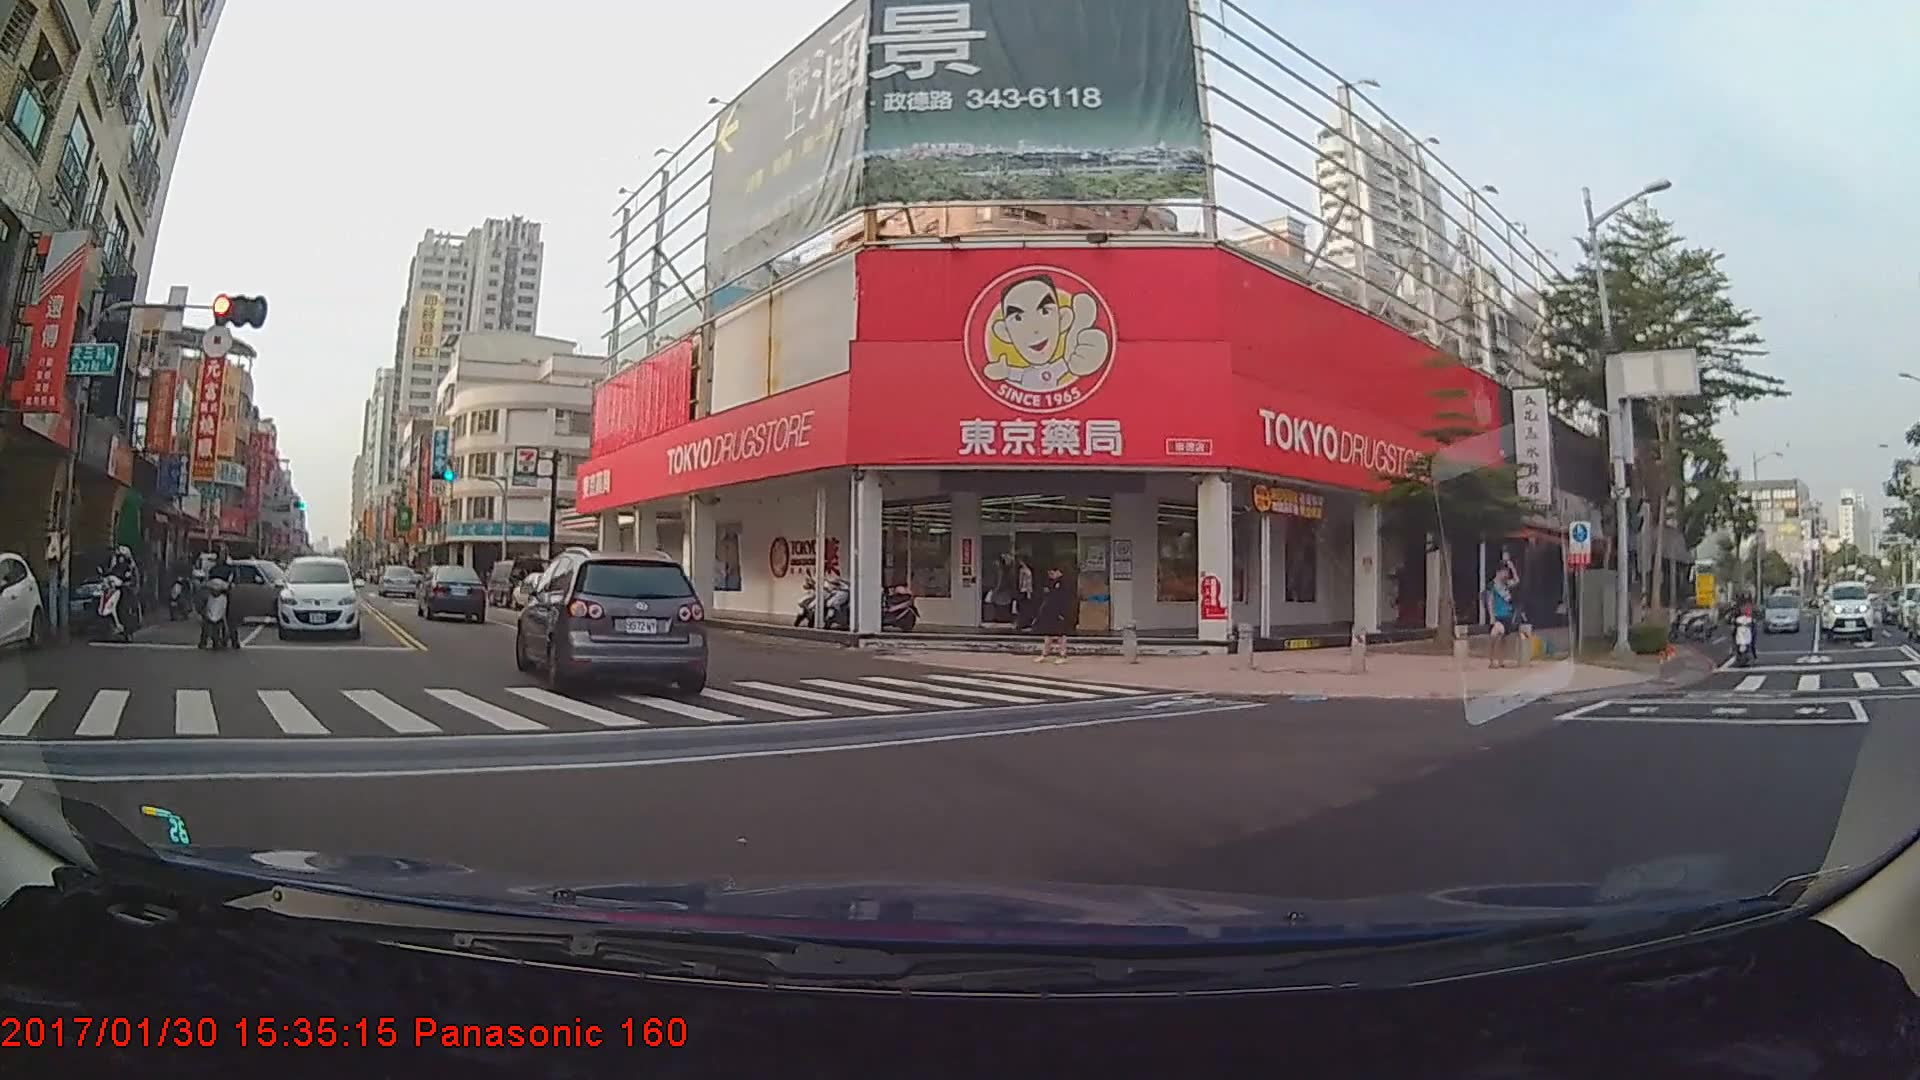pedestrian: (1033, 563, 1083, 665), (1483, 559, 1524, 670), (986, 551, 1026, 633), (1013, 555, 1037, 634)
rider: (91, 547, 152, 649), (189, 544, 242, 654), (1723, 590, 1761, 664)
vehicle: (515, 551, 706, 694), (27, 541, 142, 635), (195, 557, 309, 624), (275, 557, 360, 641), (418, 564, 486, 622), (1818, 584, 1874, 650), (506, 565, 564, 605), (1720, 599, 1743, 620)
